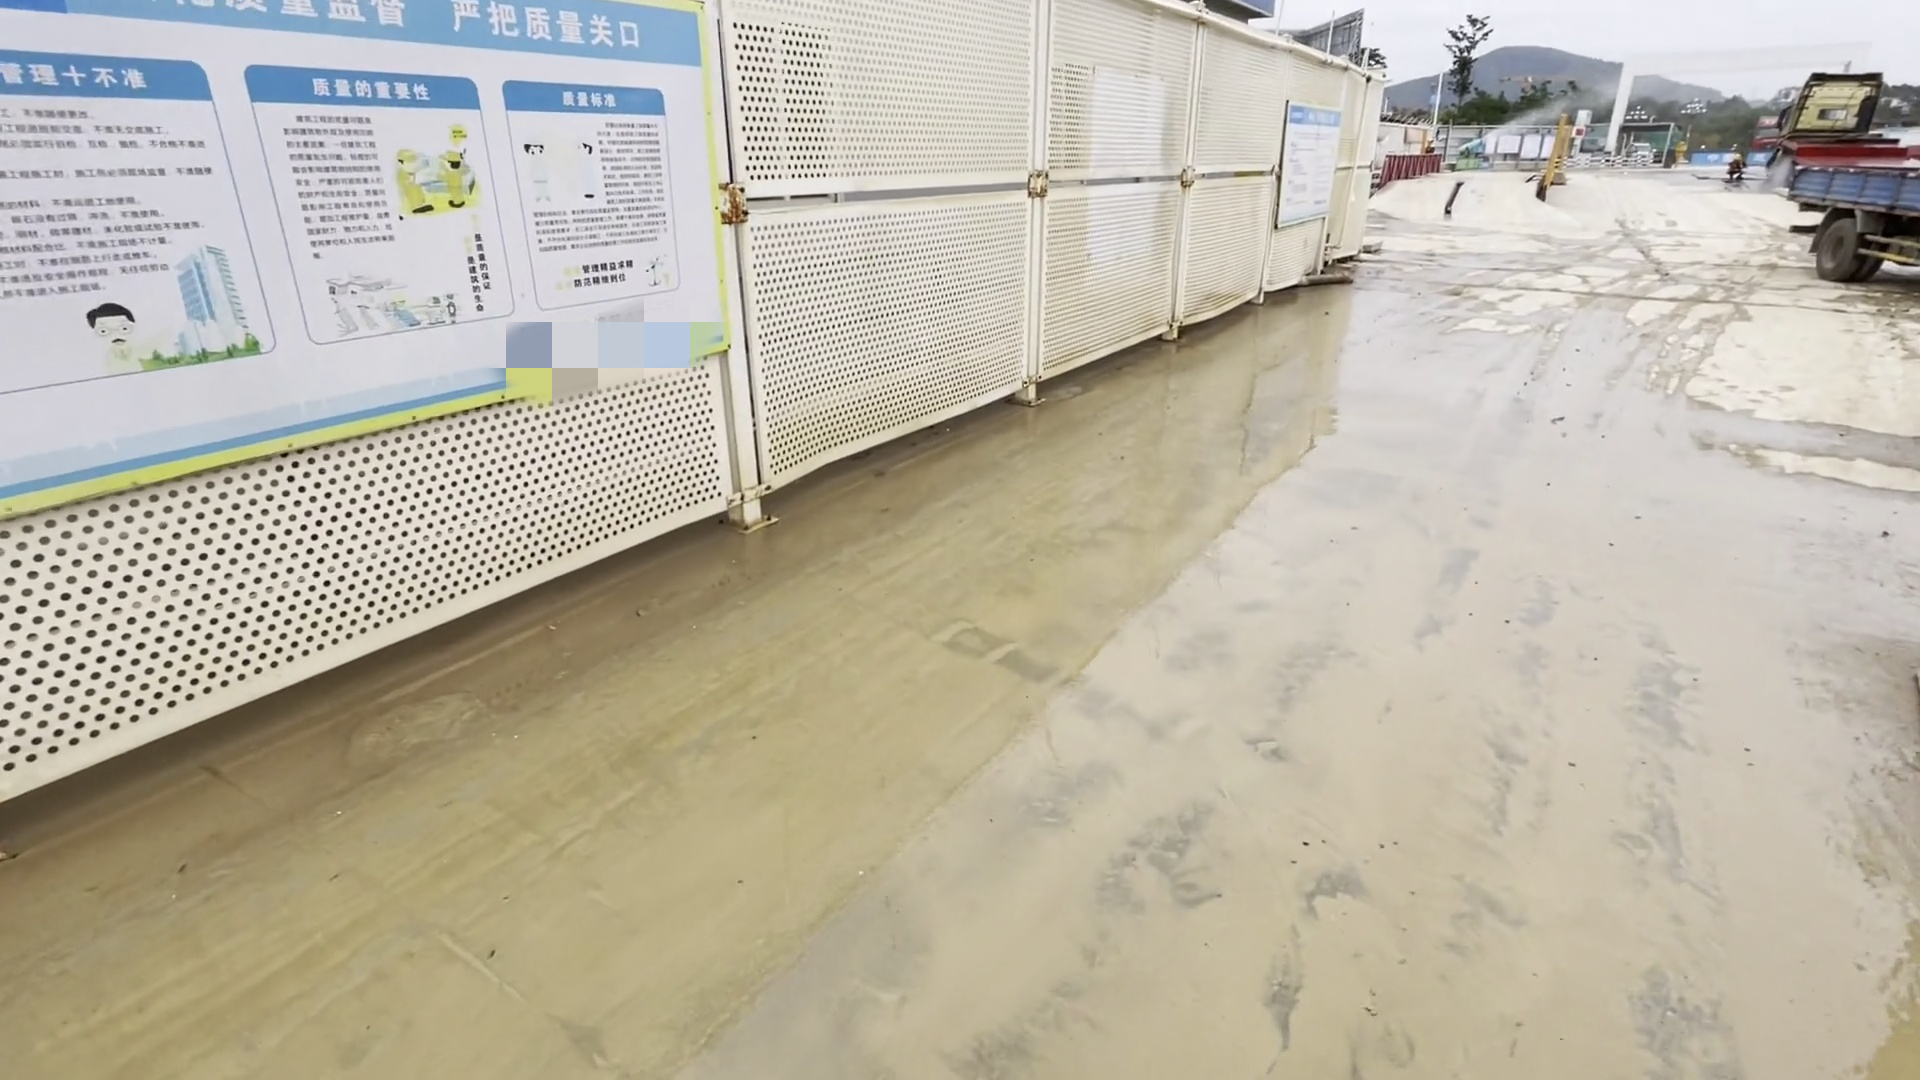slogan: (7, 7, 752, 475)
